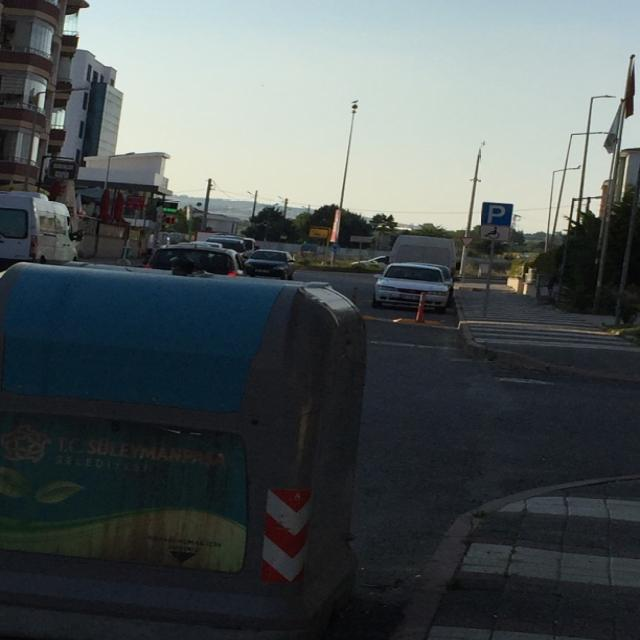park: (480, 202, 515, 227)
